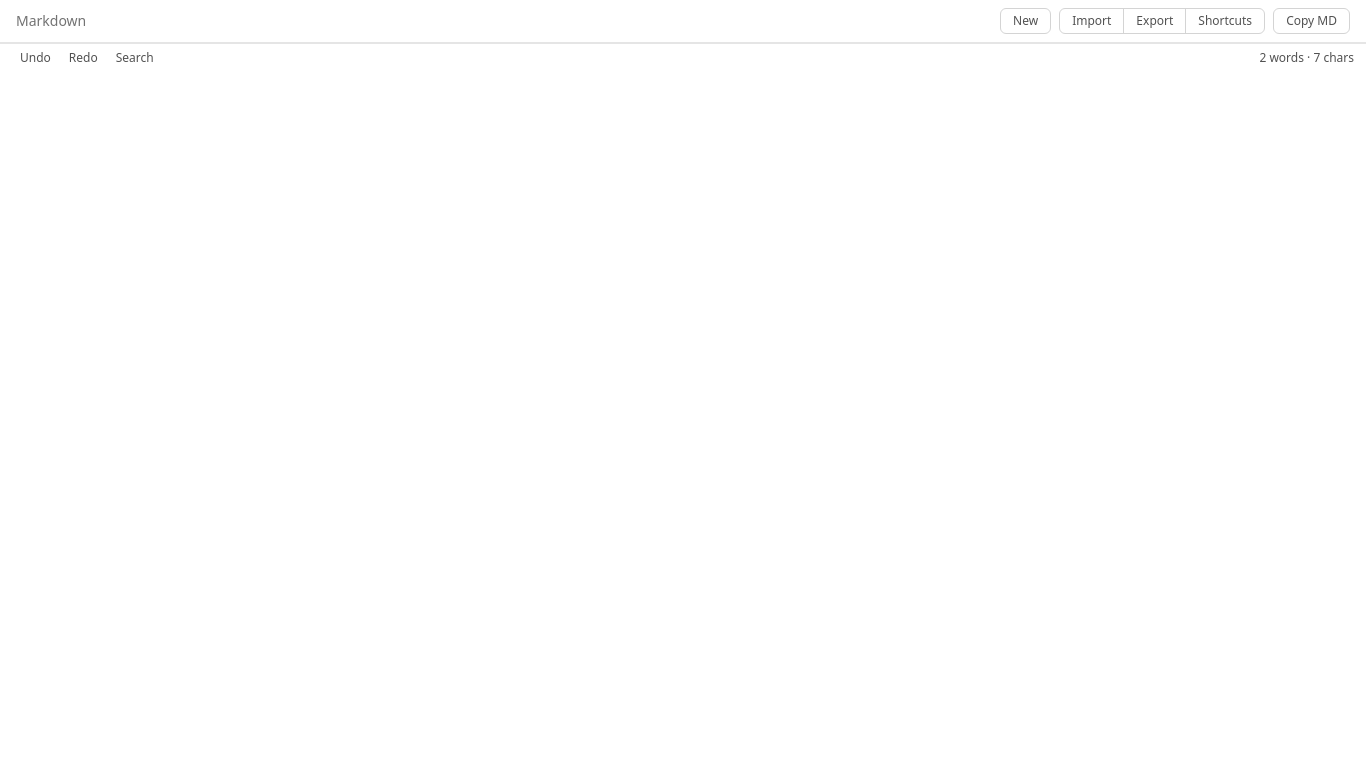
MarkdownInput — new document flow › clicking New shows the new document modal
Click the button titled "New document (clears editor)".
click(1026, 21)  # box x1=1000 y1=8 x2=1051 y2=34
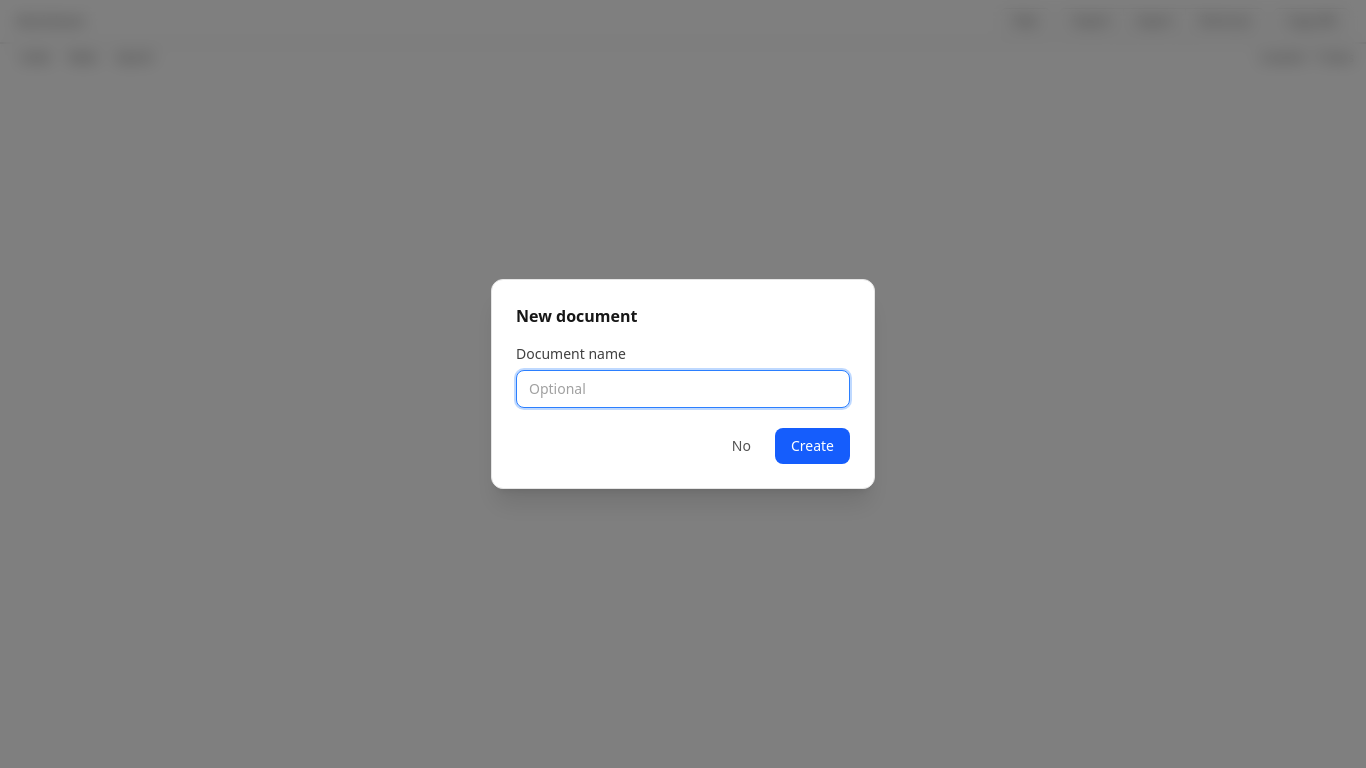
Now the heading "New document" is shown, box x1=516 y1=305 x2=637 y2=327
Now the field labelled "Document name" is shown, box x1=516 y1=370 x2=850 y2=408
Now the button "Create" is shown, box x1=775 y1=428 x2=850 y2=464
